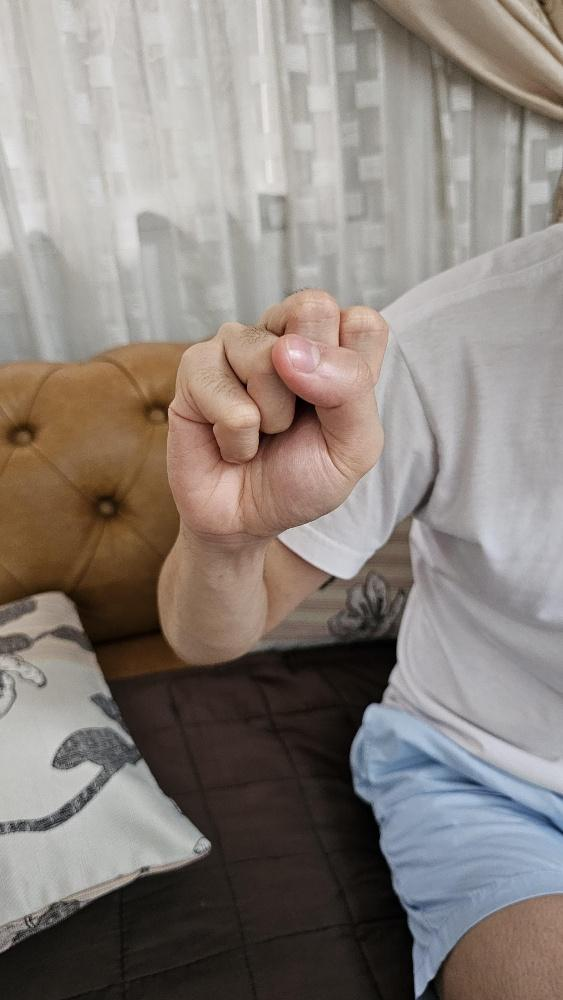s: (161, 284, 389, 538)
